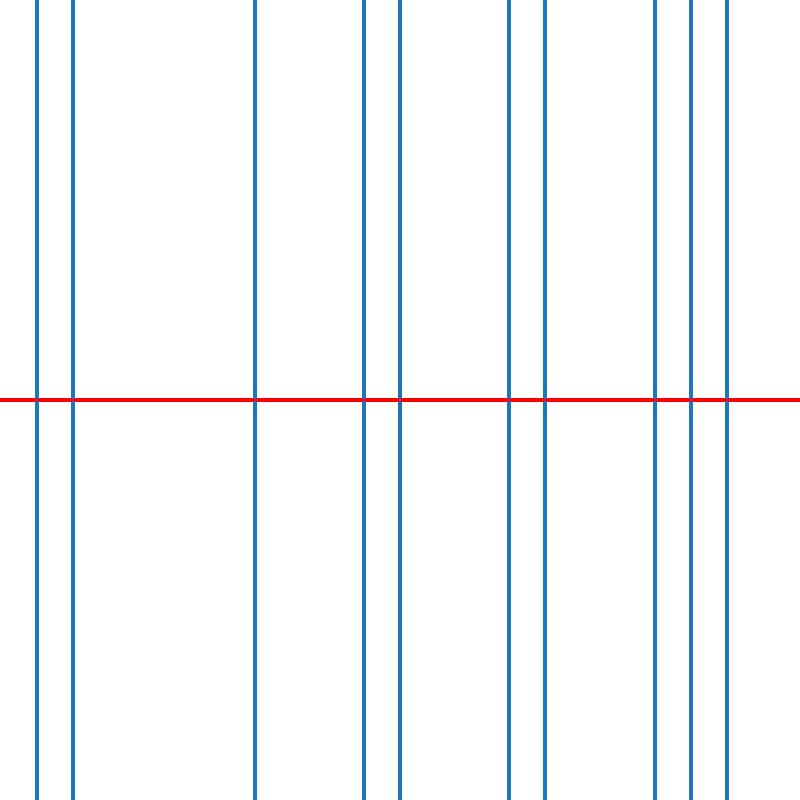root: (32, 396, 40, 404), (650, 396, 658, 404), (541, 396, 549, 404), (250, 396, 258, 404), (687, 396, 694, 404), (396, 396, 403, 404), (505, 396, 512, 404), (723, 396, 730, 404), (69, 396, 76, 404), (360, 396, 367, 404)
